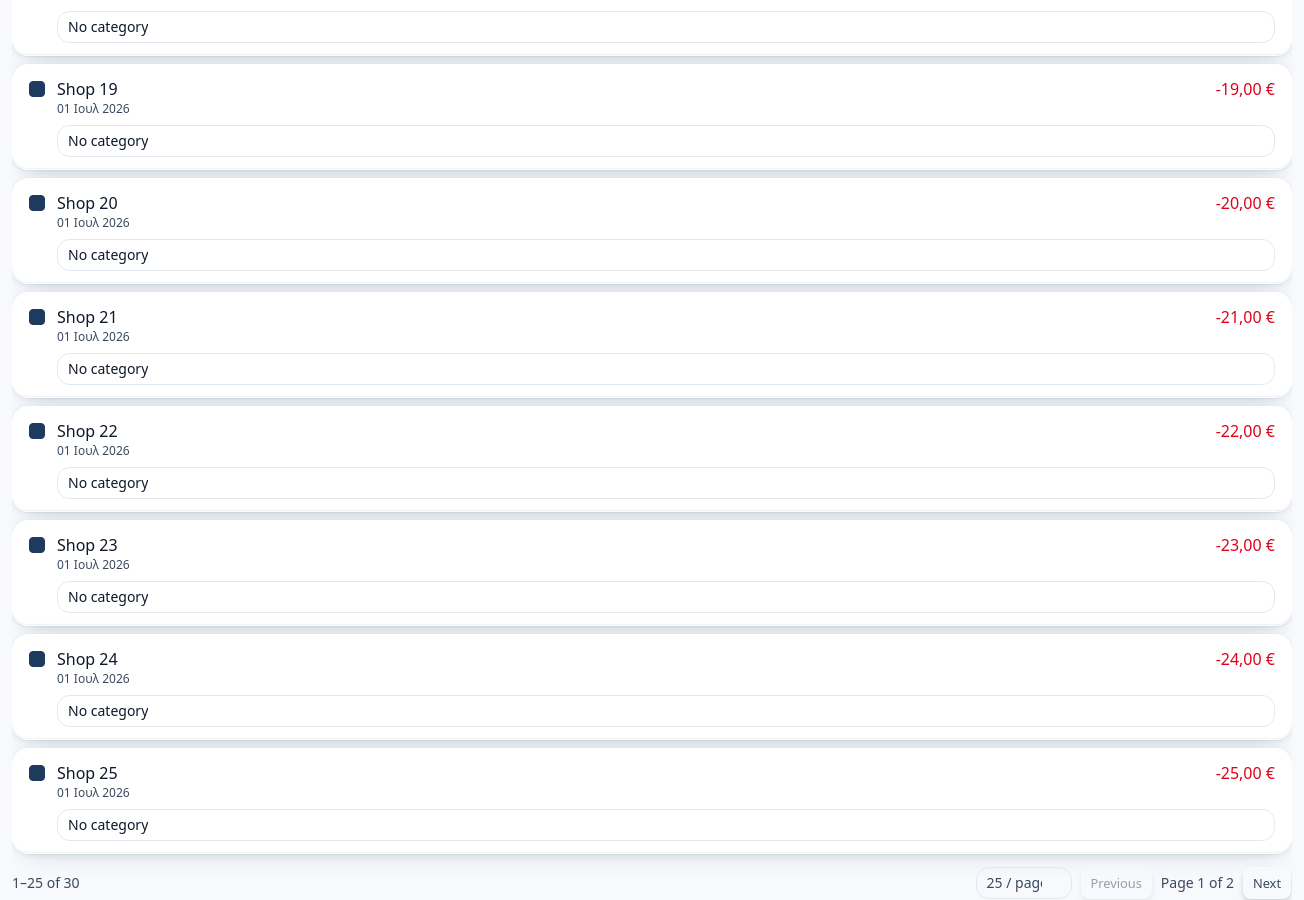
Test case: ImportPreviewRows › filters across all pages and returns to page one
The width and height of the screenshot is (1304, 900).
(page scrolled)
Click the button "Next" at (1267, 883), box 1242,866 -> 1292,899
(page scrolled)
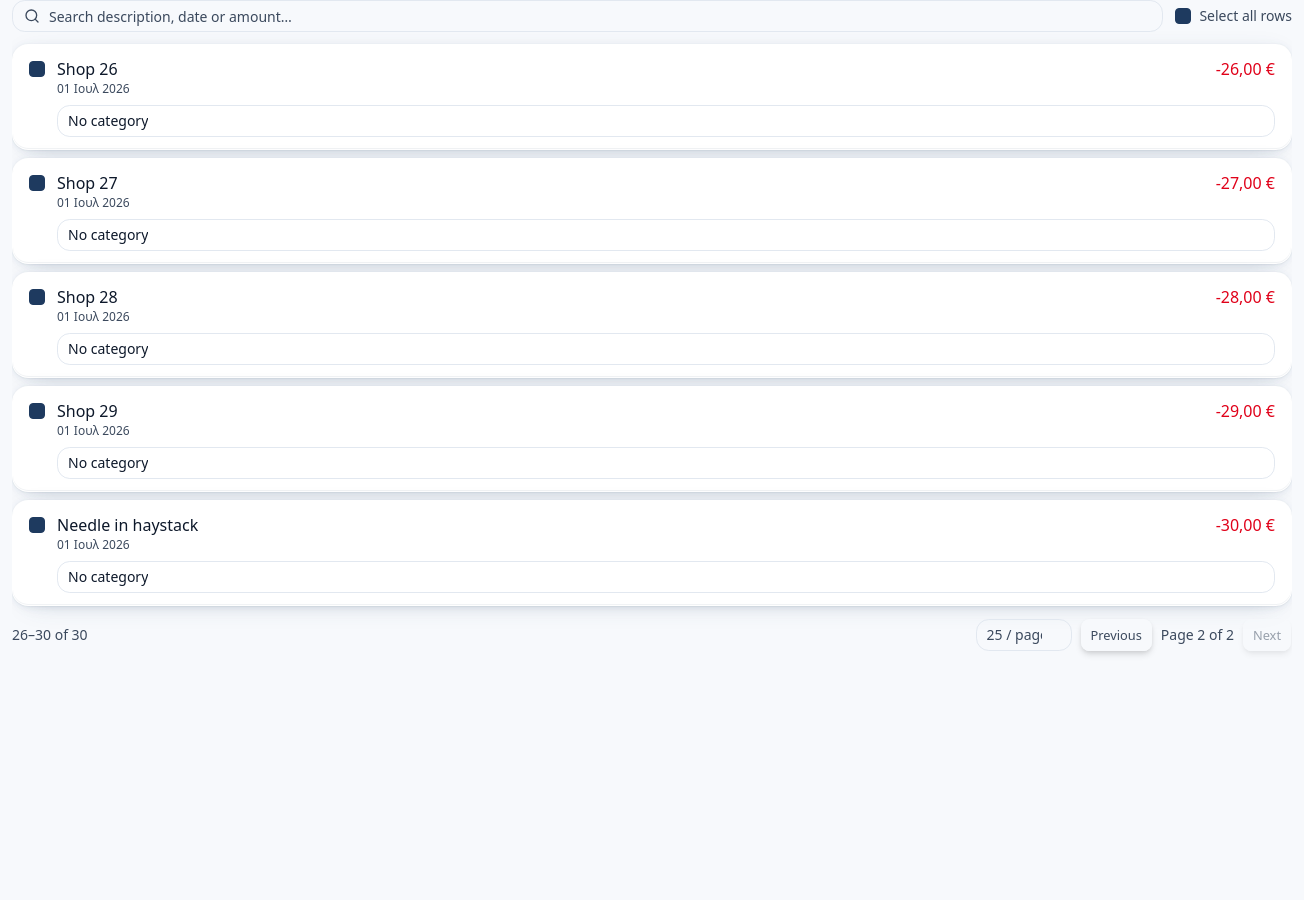
Type "needle" into the search field named "search rows" at (588, 16), box 12,0 -> 1163,32
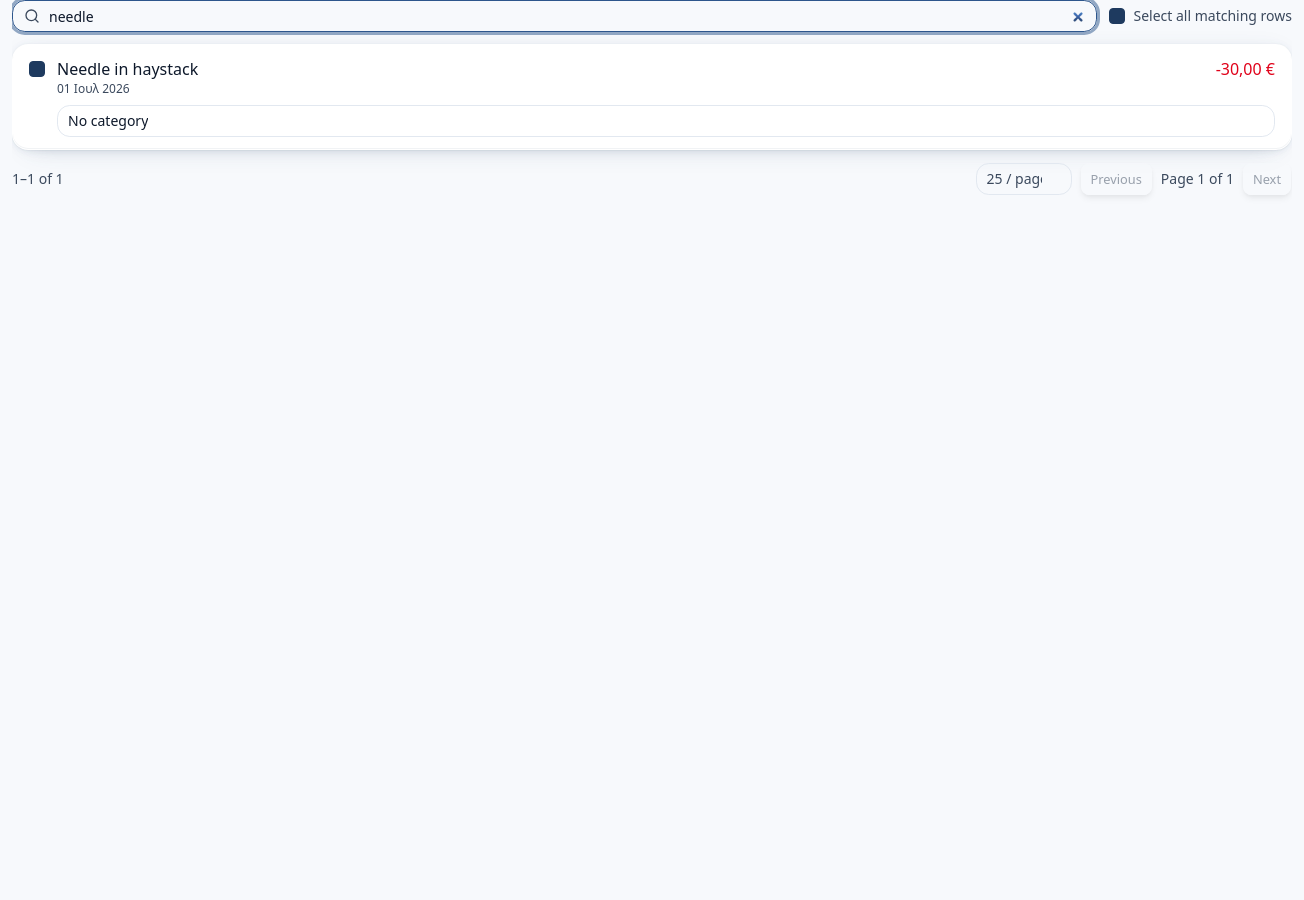
Expected: the text "Shop 1" is not shown
Expected: the text "Needle in haystack" is shown, 57,58 -> 198,80
Expected: the text "1–1 of 1" is shown, 12,169 -> 64,189
